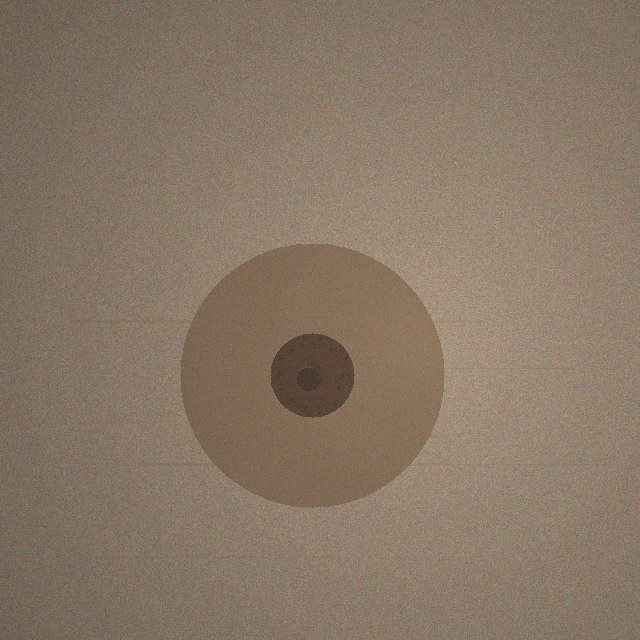cold_weld: (180, 243, 444, 507)
